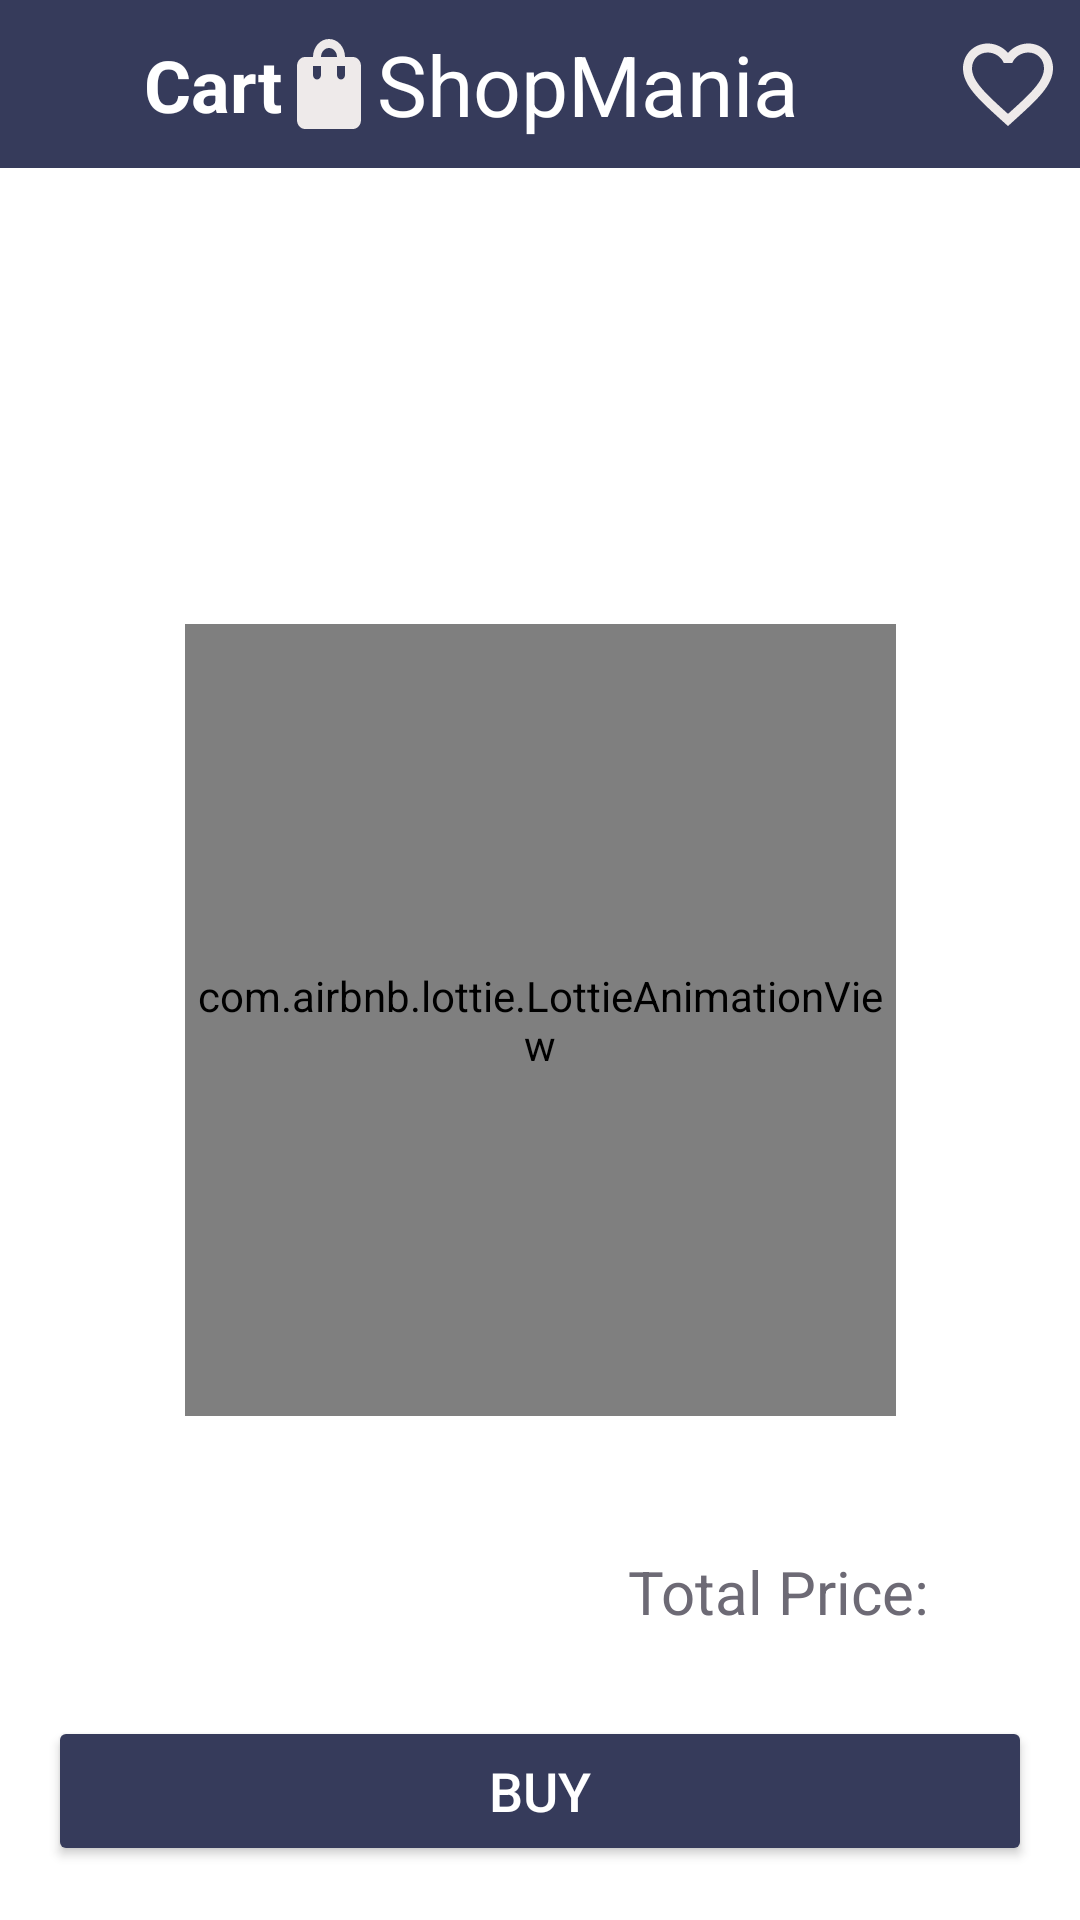

Screen size 1080w x 1920h. Icon name, then its box in pixels as [left=x1, top=y1, right=x2, bottom=y2]:
favorite border: [left=963, top=43, right=1053, bottom=126]
shopping bag: [left=297, top=39, right=361, bottom=129]
